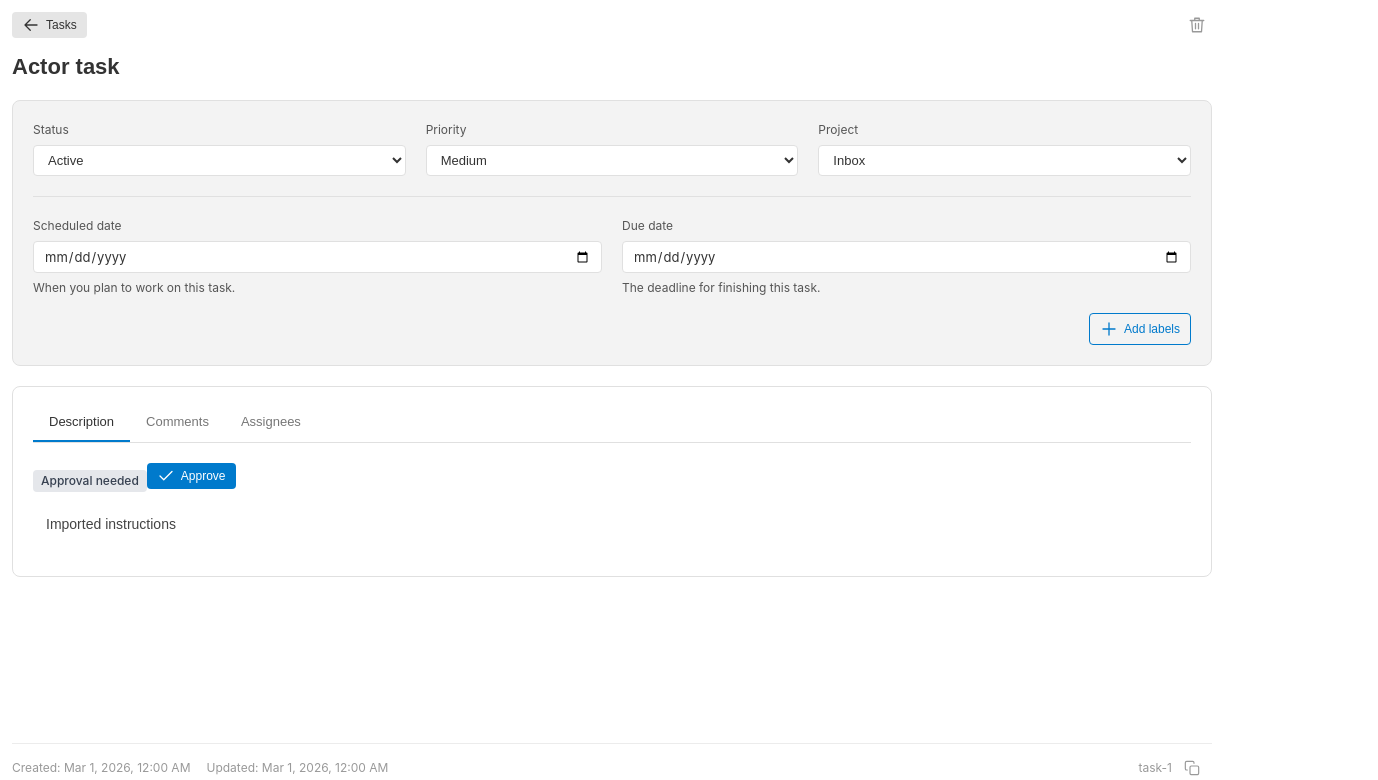
Test: actor-aware renderer views › shows the task ID and copies the raw ID
Expected: the text "task-1" is shown, 1138,759 -> 1172,777
Click the button named "Copy task ID".
click(1192, 768)  # box 1180,756 -> 1204,779
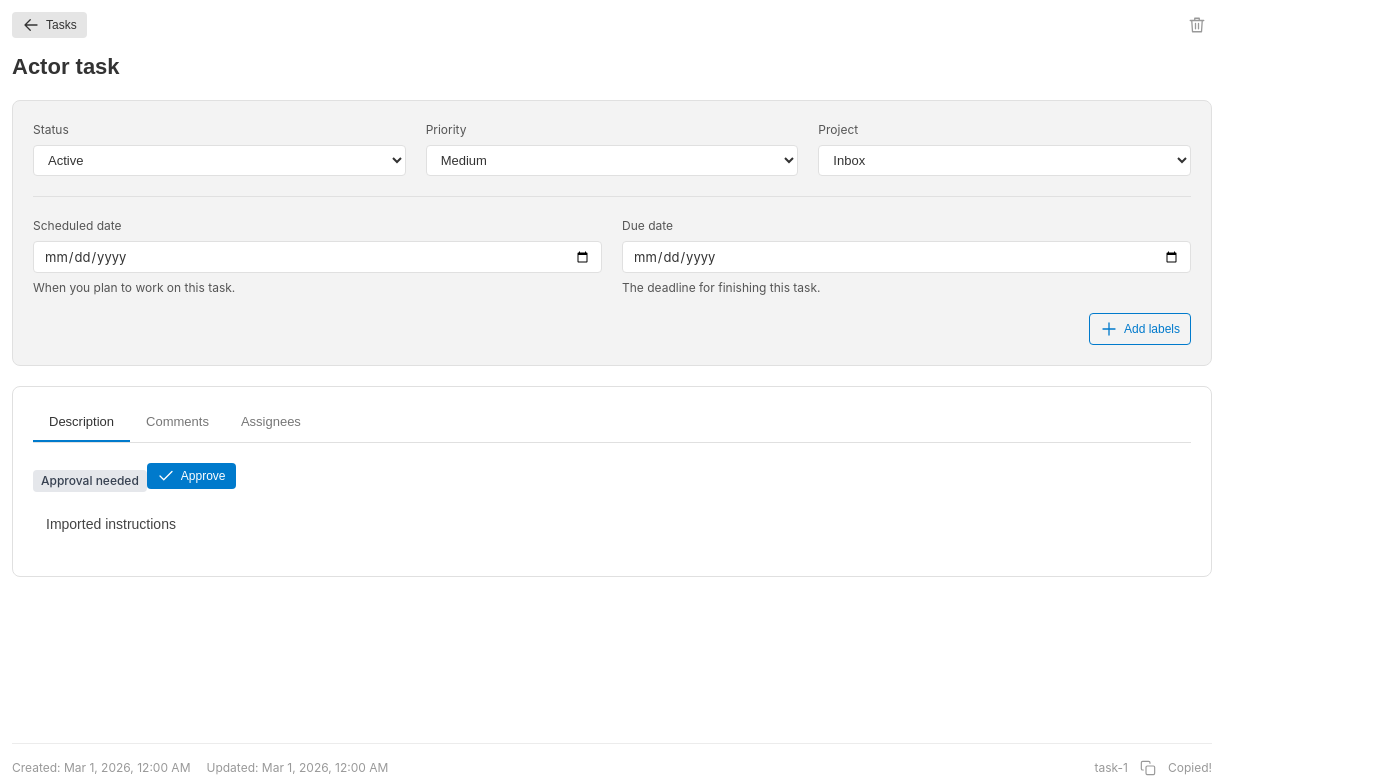
Expected: the text "Copied!" is shown, 1168,759 -> 1212,777
